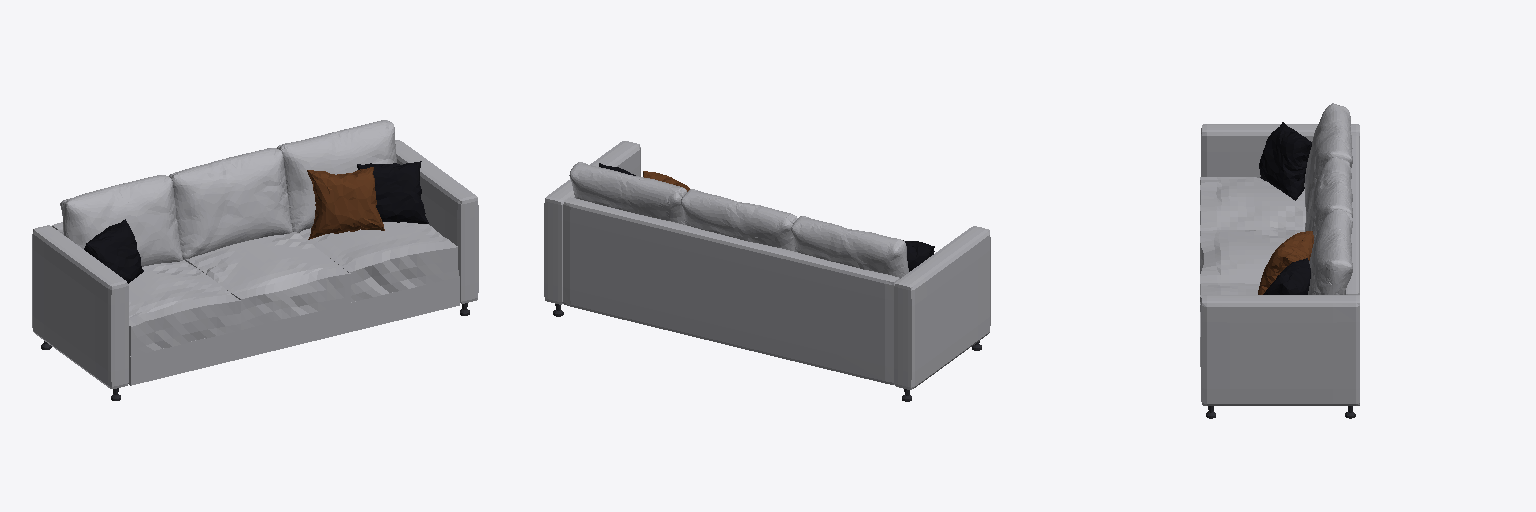
Rendered from couch.obj.
3 views of the same model, side by side, from view 1: azimuth 30°, elevation 25°; view 2: azimuth 150°, elevation 25°; view 3: azimuth 270°, elevation 25° (orthographic).
Parts seen in each view (by area): view 1: sides, Back_cousion.002, bottom, seat_cousion.001, seat_cousion.002, seat_cousion, Back_cousion, Back_cousion.001, pillow.002, pillow.001, pillow.003; view 2: back, sides, Back_cousion, Back_cousion.001, Back_cousion.002, pillow.003; view 3: sides, seat_cousion.002, seat_cousion.001, Back_cousion.001, pillow.003, Back_cousion, Back_cousion.002, pillow.002, back, pillow.001, seat_cousion.
Boxes of the visible parts, x1=… form: sides: x1=32, y1=140, x2=478, y2=388; Back_cousion.002: x1=169, y1=148, x2=292, y2=259; bottom: x1=128, y1=276, x2=459, y2=385; seat_cousion.001: x1=185, y1=232, x2=350, y2=329; seat_cousion.002: x1=128, y1=260, x2=240, y2=356; seat_cousion: x1=299, y1=222, x2=458, y2=301; Back_cousion: x1=60, y1=175, x2=182, y2=266; Back_cousion.001: x1=277, y1=120, x2=396, y2=232; pillow.002: x1=307, y1=167, x2=384, y2=239; pillow.001: x1=357, y1=161, x2=428, y2=223; pillow.003: x1=84, y1=219, x2=143, y2=283; back: x1=563, y1=197, x2=899, y2=384; sides: x1=544, y1=141, x2=990, y2=389; Back_cousion: x1=791, y1=216, x2=908, y2=278; Back_cousion.001: x1=569, y1=162, x2=686, y2=224; Back_cousion.002: x1=681, y1=189, x2=797, y2=251; pillow.003: x1=903, y1=240, x2=934, y2=271; sides: x1=1201, y1=124, x2=1359, y2=405; seat_cousion.002: x1=1200, y1=177, x2=1305, y2=235; seat_cousion.001: x1=1200, y1=230, x2=1304, y2=303; Back_cousion.001: x1=1308, y1=208, x2=1352, y2=294; pillow.003: x1=1259, y1=122, x2=1311, y2=200; Back_cousion: x1=1304, y1=103, x2=1352, y2=216; Back_cousion.002: x1=1305, y1=156, x2=1352, y2=240; pillow.002: x1=1258, y1=231, x2=1313, y2=294; back: x1=1344, y1=133, x2=1359, y2=294; pillow.001: x1=1263, y1=258, x2=1310, y2=294; seat_cousion: x1=1200, y1=283, x2=1259, y2=366.
Size of the model in its own units: 2.02 by 0.7855 by 0.7598.